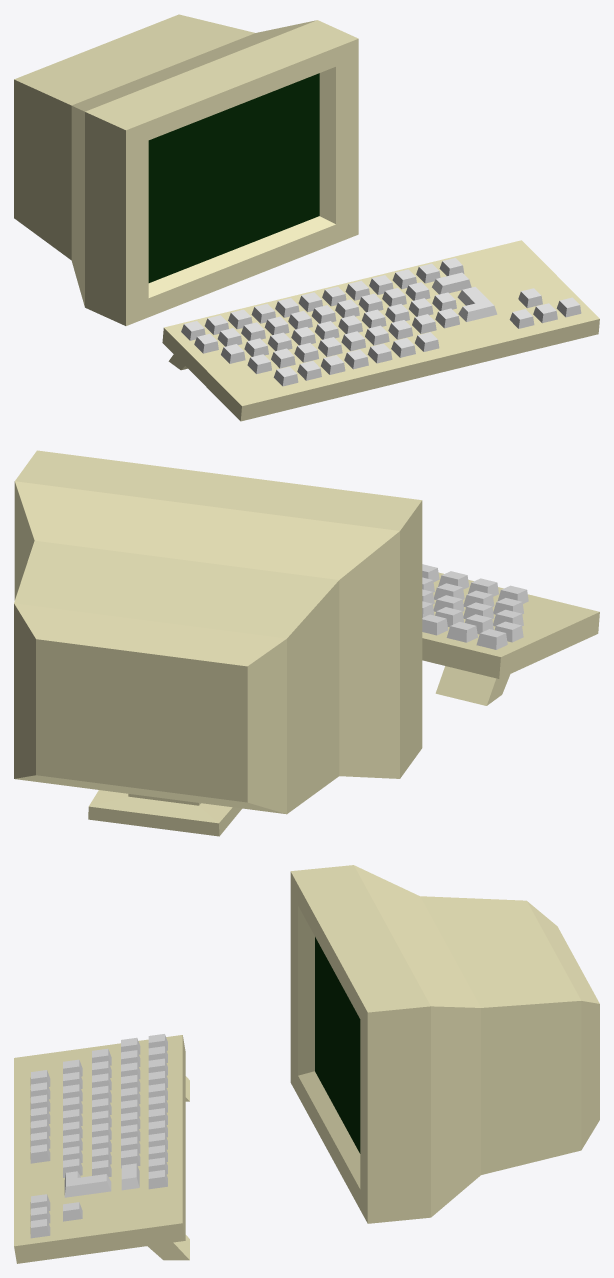
The model's file is Computer.fbx.
3 views of the same model, one above another, from view 1: azimuth 30°, elevation 25°; view 2: azimuth 150°, elevation 25°; view 3: azimuth 270°, elevation 25° (orthographic). The views are drawn at different scales.
Parts seen in each view (by area): view 1: Cube, Keyboard, ENTER, BKSP; view 2: Cube, Keyboard; view 3: Cube, Keyboard, ENTER.
Boxes of the visible parts, x1,y1,x2,y2 form: Cube: (14,14,358,325); Keyboard: (162,240,599,421); ENTER: (457,286,497,321); BKSP: (432,272,471,294); Cube: (14,450,422,836); Keyboard: (422,572,599,705); Cube: (290,865,599,1223); Keyboard: (14,1035,189,1263); ENTER: (64,1171,111,1197).
Bounding box in the file's own units: 215 × 113 × 283.
